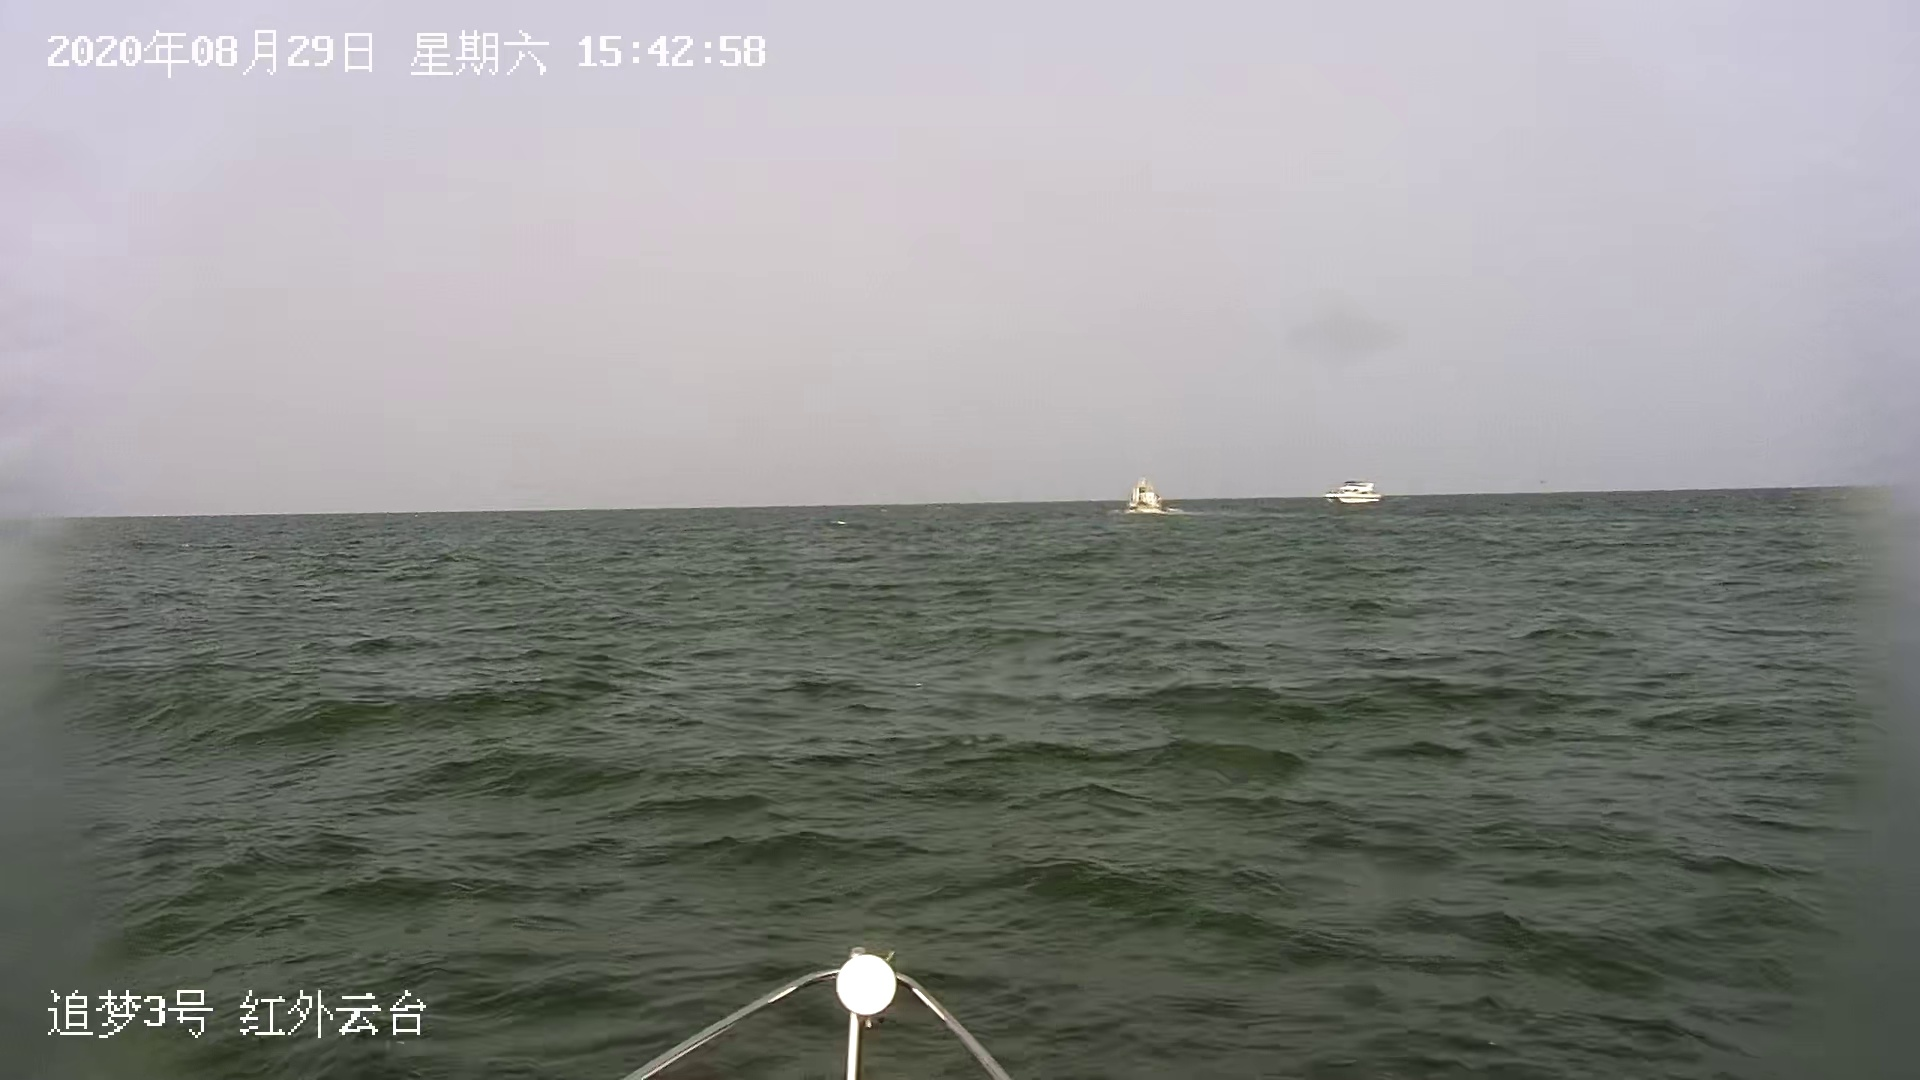barrier: (1120, 483, 1179, 516), (1327, 477, 1383, 506)
this: (621, 945, 1017, 1079)
